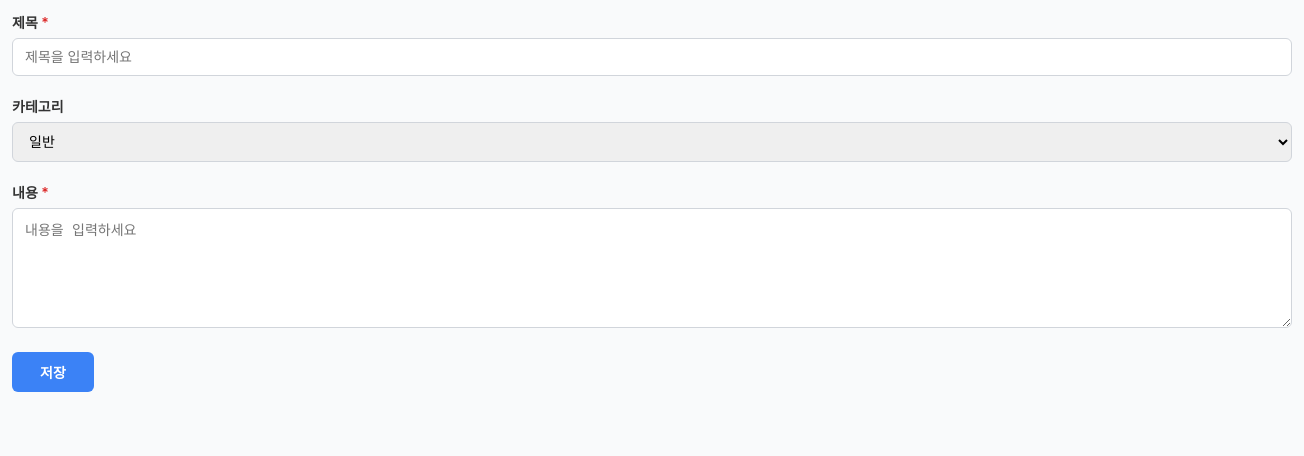
Test: ItemForm › 필수값이 비어 있으면 오류를 보이고 제출하지 않는다
This screenshot has width=1304, height=456.
What coordinates should you click on to do the following:
click the button "저장"
I would click on:
 (53, 372)
Its box is [12,352,94,392].
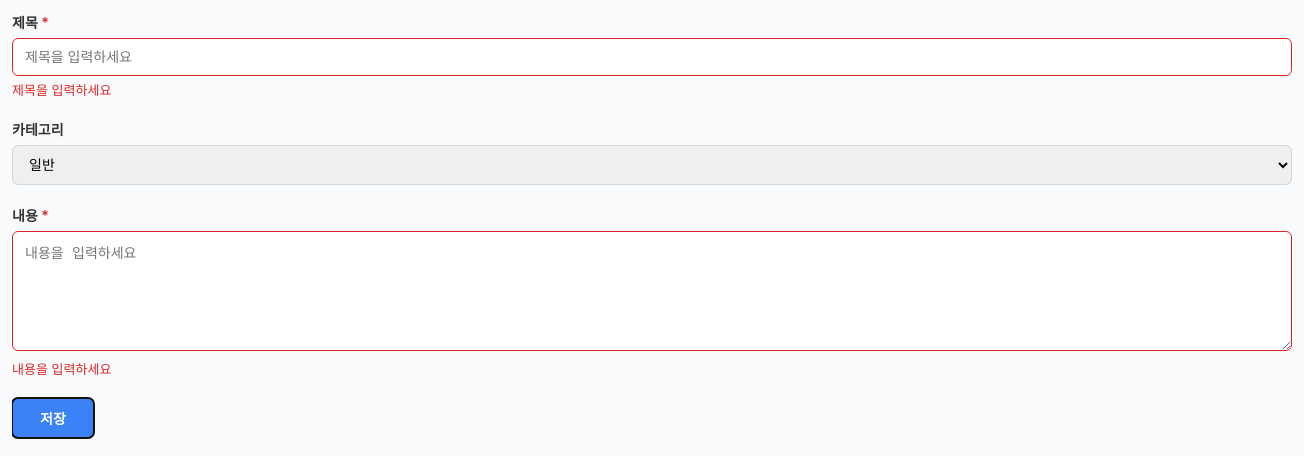
Expected: the text "제목을 입력하세요" is shown, [12,82,111,98]
Expected: the text "내용을 입력하세요" is shown, [12,361,111,377]
